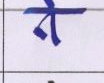e_matra: (25, 0, 63, 7)
